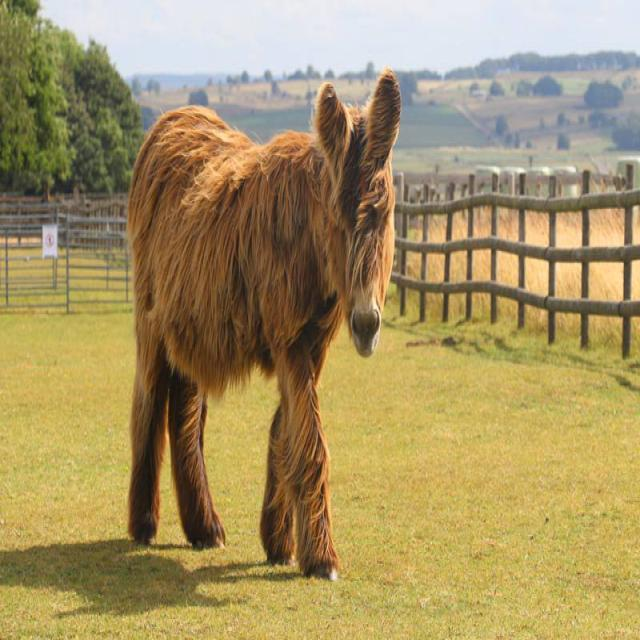Donkey: (119, 61, 415, 587)
